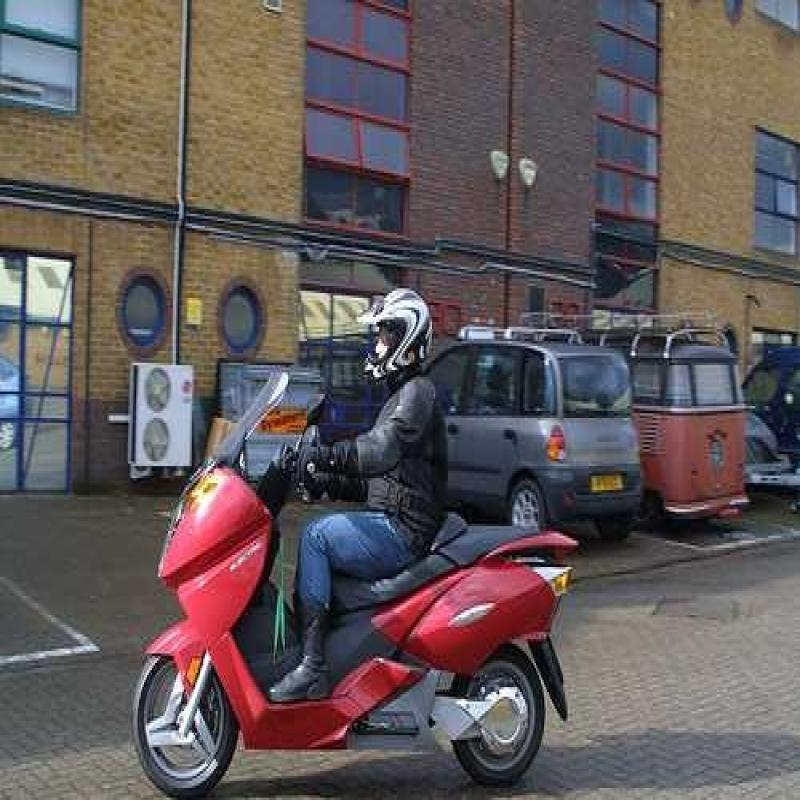bike: (137, 373, 570, 797)
